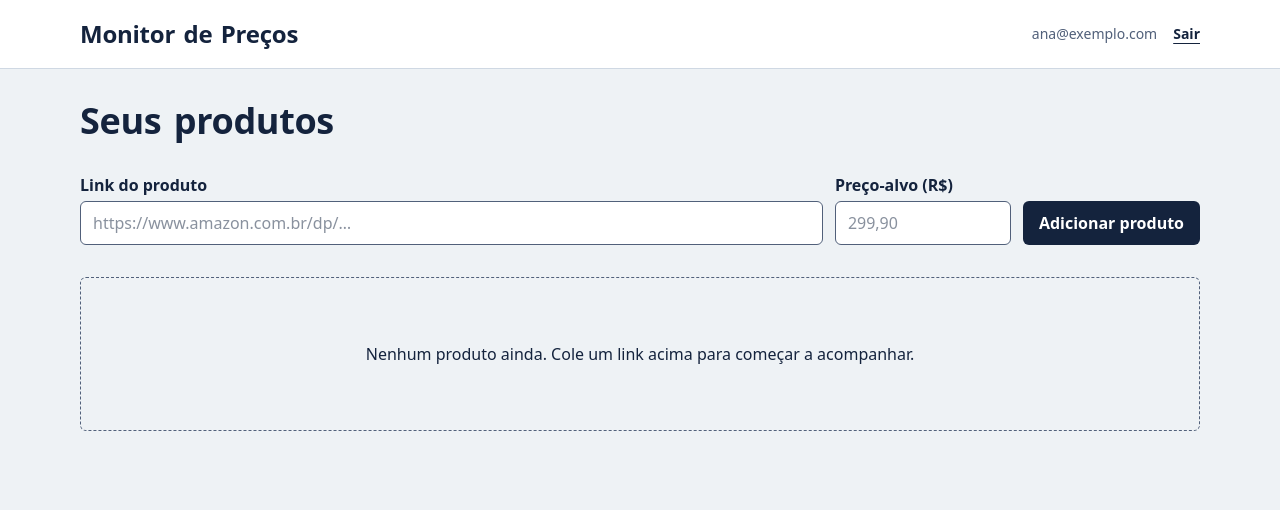
Test: produto repetido não oferece nova tentativa
Type "https://www.amazon.com.br/dp/1" into the field labelled "Link do produto" at (451, 223), box [80,201,823,245]
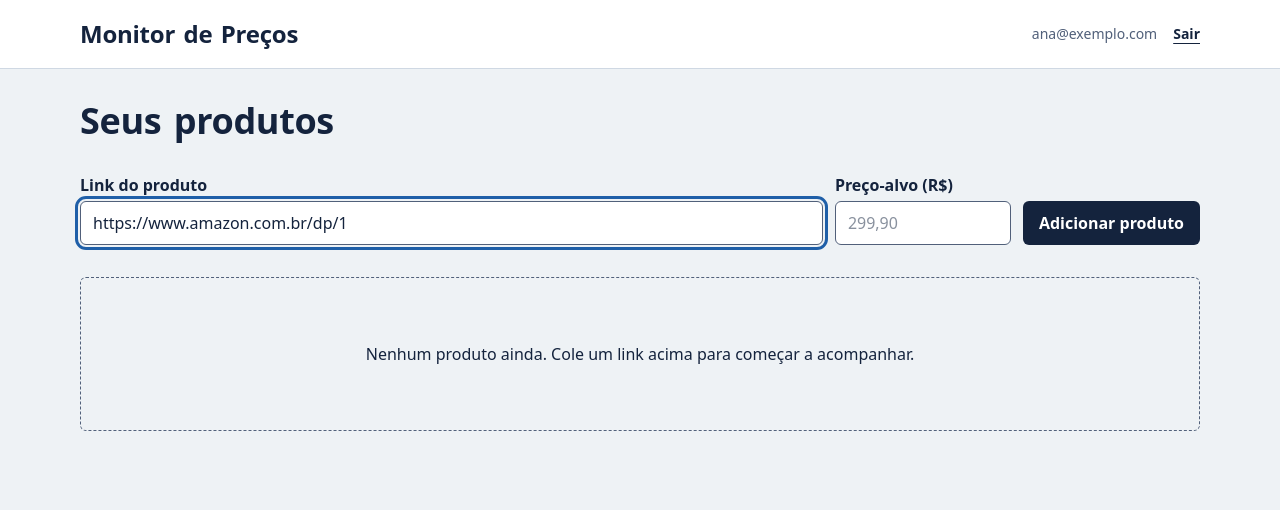
Type "90" into the field labelled "Preço-alvo (R$)" at (923, 223), box [835,201,1011,245]
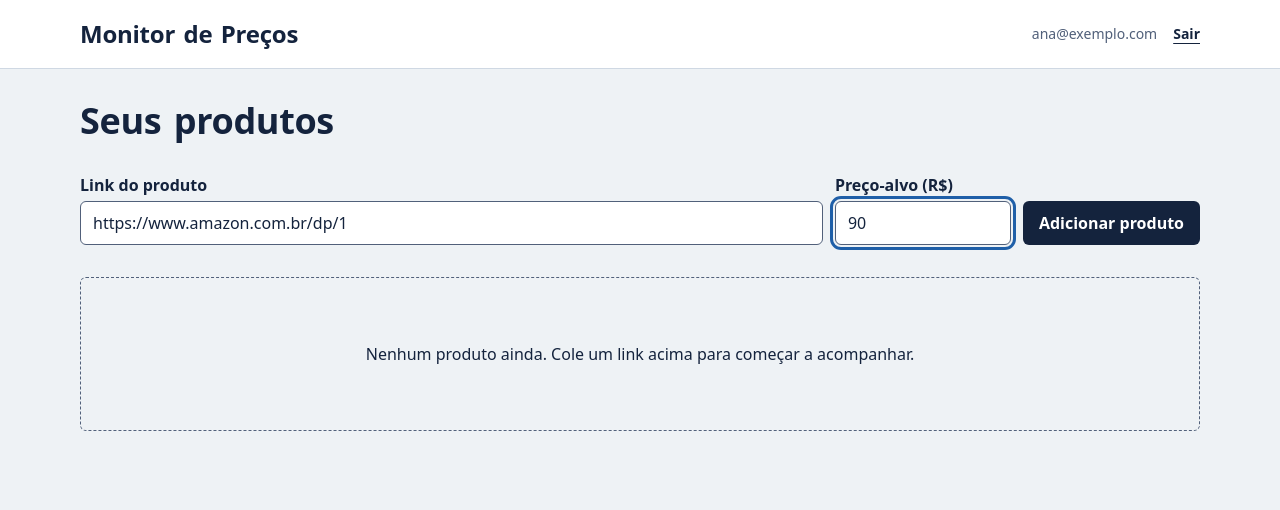
Click the button "Adicionar produto" at (1111, 223), box [1023,201,1200,245]
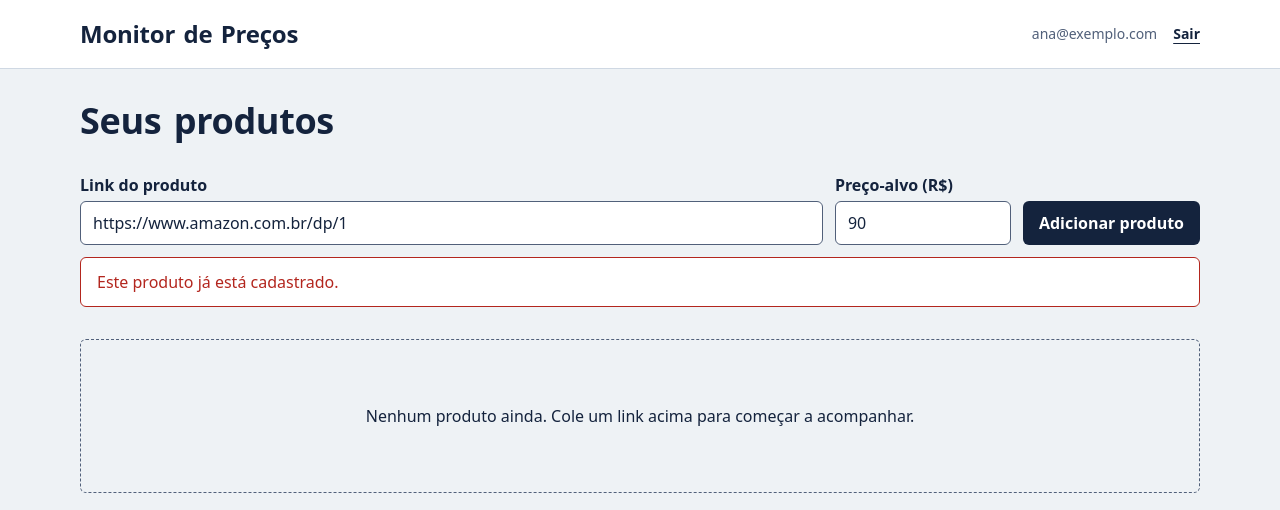
Expected: the message shows "já está cadastrado", [97,271,338,293]
